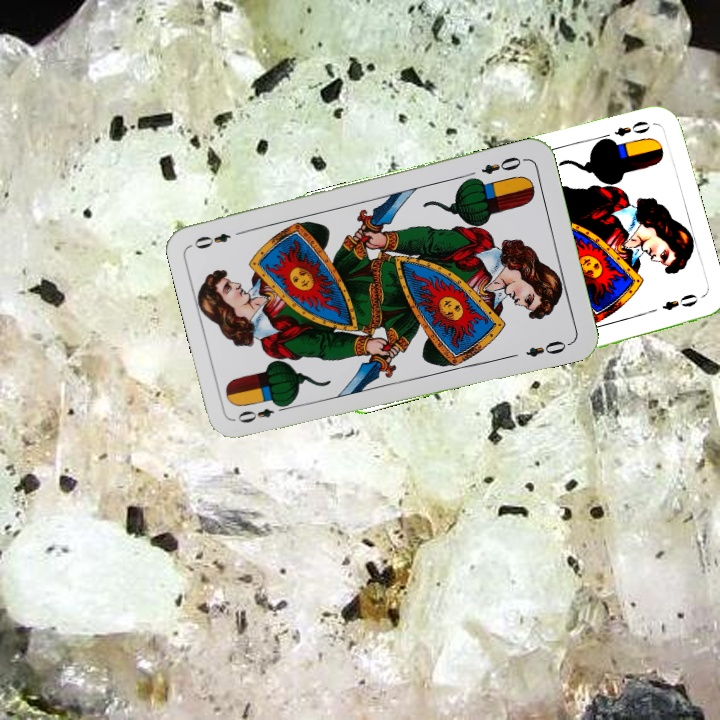EO: (596, 117, 653, 145), (233, 399, 291, 426), (477, 152, 529, 177)
